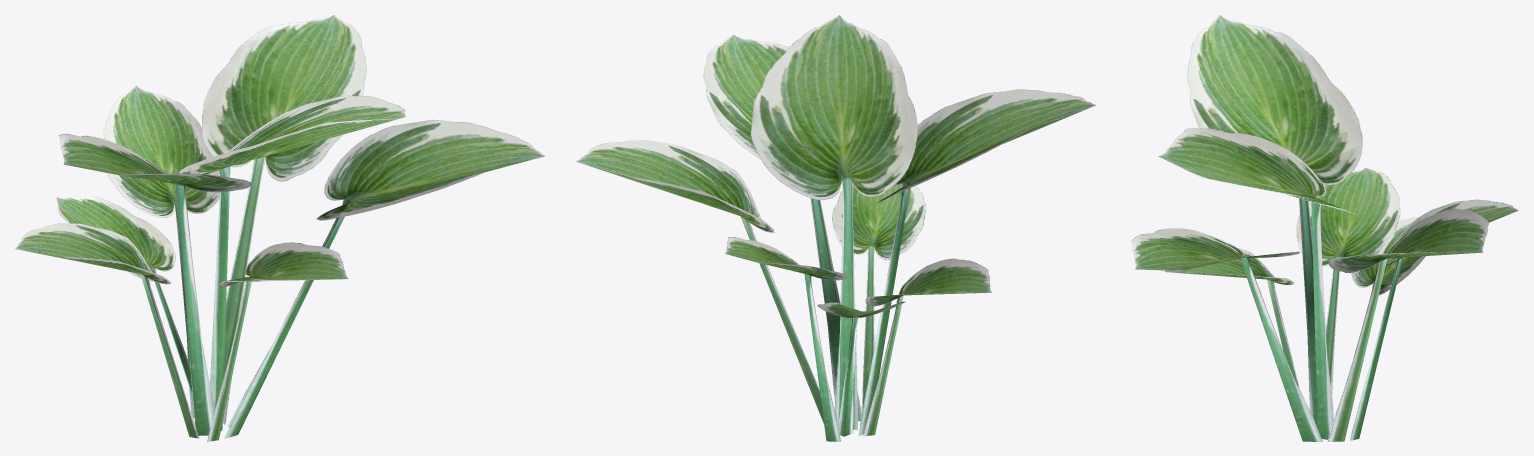
The model's file is plant_small_wg_05R2.fbx.
3 views of the same model, side by side, from view 1: azimuth 30°, elevation 25°; view 2: azimuth 150°, elevation 25°; view 3: azimuth 270°, elevation 25° (orthographic). The views are drawn at different scales.
Visible parts, largest first — view 1: plant_small_wg_05R2; view 2: plant_small_wg_05R2; view 3: plant_small_wg_05R2.
Boxes of the visible parts, x1,y1,x2,y2 form: plant_small_wg_05R2: (15,15,544,441); plant_small_wg_05R2: (576,15,1095,441); plant_small_wg_05R2: (1131,15,1518,441).
Size of the model in its own units: 52.72 by 40.92 by 44.33.
